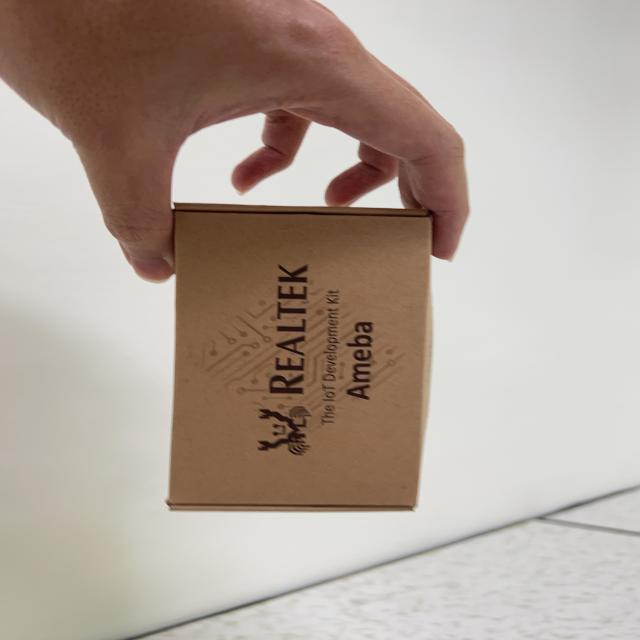box: (154, 183, 446, 528)
